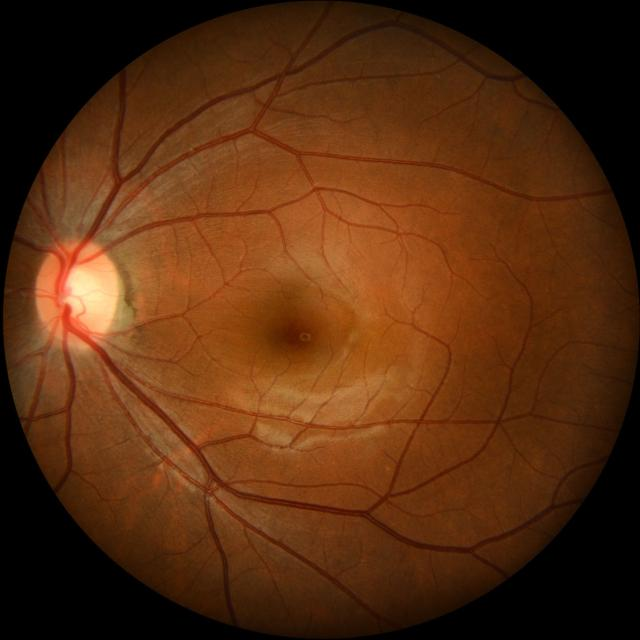OC: (61, 264, 108, 326)
OD: (34, 239, 120, 346)
